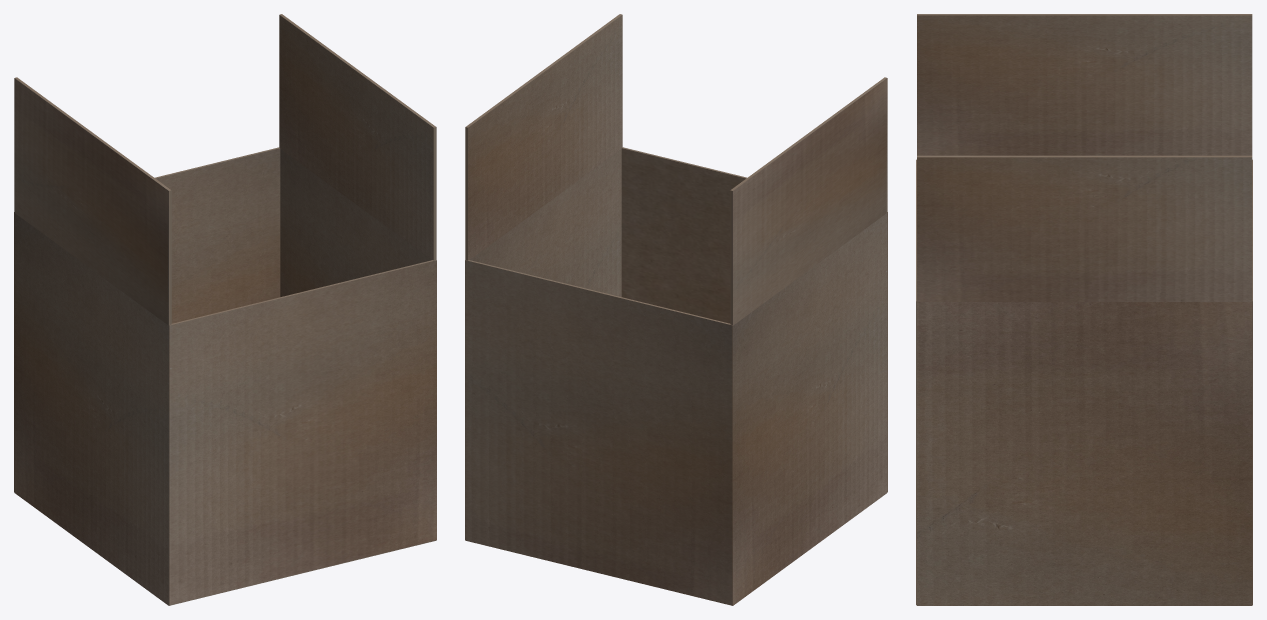
File: PackageOpen.fbx
The picture shows the model from 3 angles, left to right: view 1: azimuth 30°, elevation 25°; view 2: azimuth 150°, elevation 25°; view 3: azimuth 270°, elevation 25°; orthographic projection. The views are drawn at different scales.
Parts seen in each view (by area): view 1: Cube.001; view 2: Cube.001; view 3: Cube.001.
Part boxes in pixels (left/top/right/bottom): Cube.001: left=14, top=14, right=436, bottom=605; Cube.001: left=465, top=14, right=887, bottom=605; Cube.001: left=916, top=14, right=1252, bottom=605.
Size of the model in its own units: 200 by 296 by 201.
